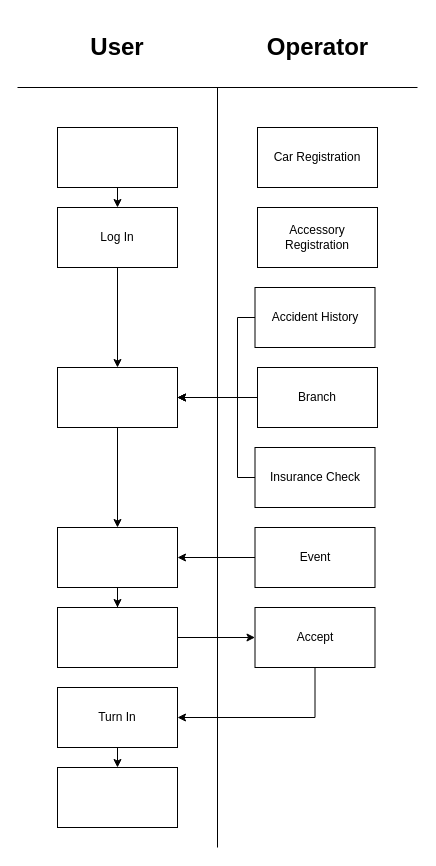
This 436x866 diagram has some shape labels left out. Each missing label, with the centre of its shape:
"Accessory Selection" goes at point 117,557.
"Camping Car Selection" goes at point 117,397.
"Make a Reservation" goes at point 117,637.
"Review" goes at point 117,797.
"User Register" goes at point 117,157.
